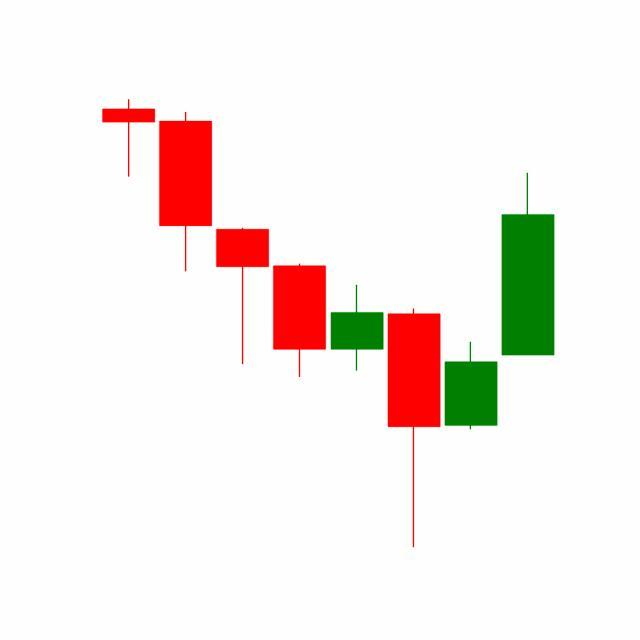Hikkake Pattern: (270, 169, 555, 549)
